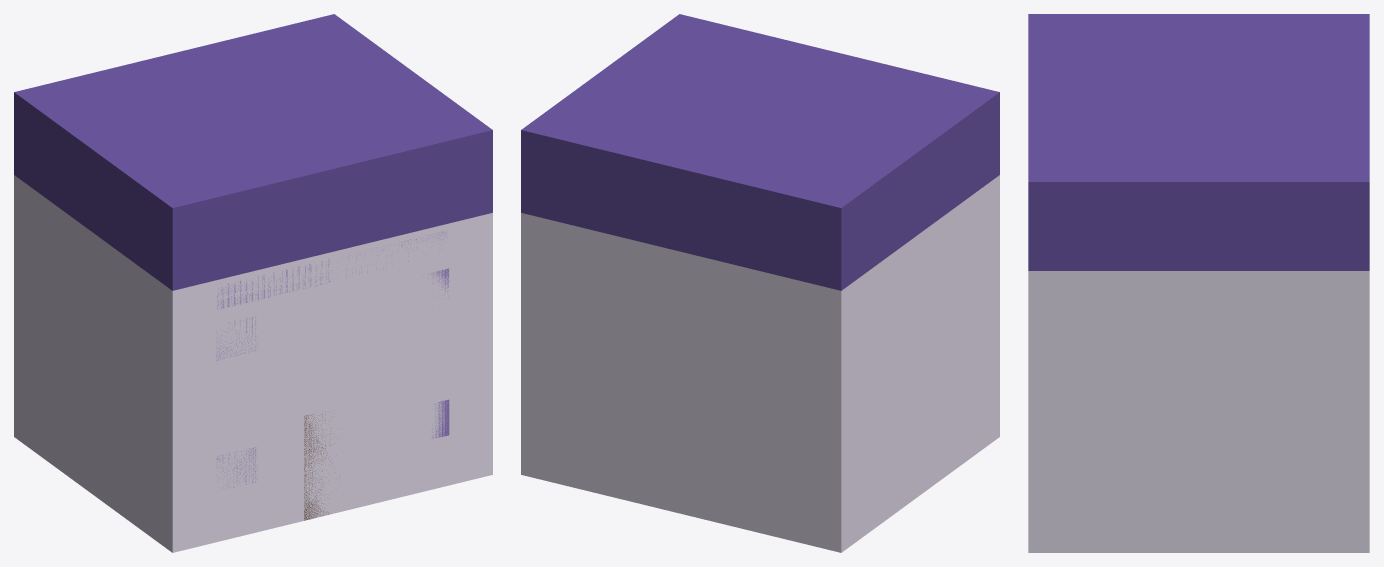
The model's file is gedung_karier.fbx.
The picture shows the model from 3 angles, left to right: view 1: azimuth 30°, elevation 25°; view 2: azimuth 150°, elevation 25°; view 3: azimuth 270°, elevation 25°; orthographic projection. The views are drawn at different scales.
Visible parts, largest first — view 1: gedung_karier; view 2: gedung_karier; view 3: gedung_karier.
Boxes of the visible parts, <box> form: gedung_karier: <box>14,14,492,552</box>; gedung_karier: <box>521,14,999,552</box>; gedung_karier: <box>1028,14,1369,552</box>.
Bounding box in the file's own units: 700 × 720 × 600.
Materials: 1 (1 with a texture image).
